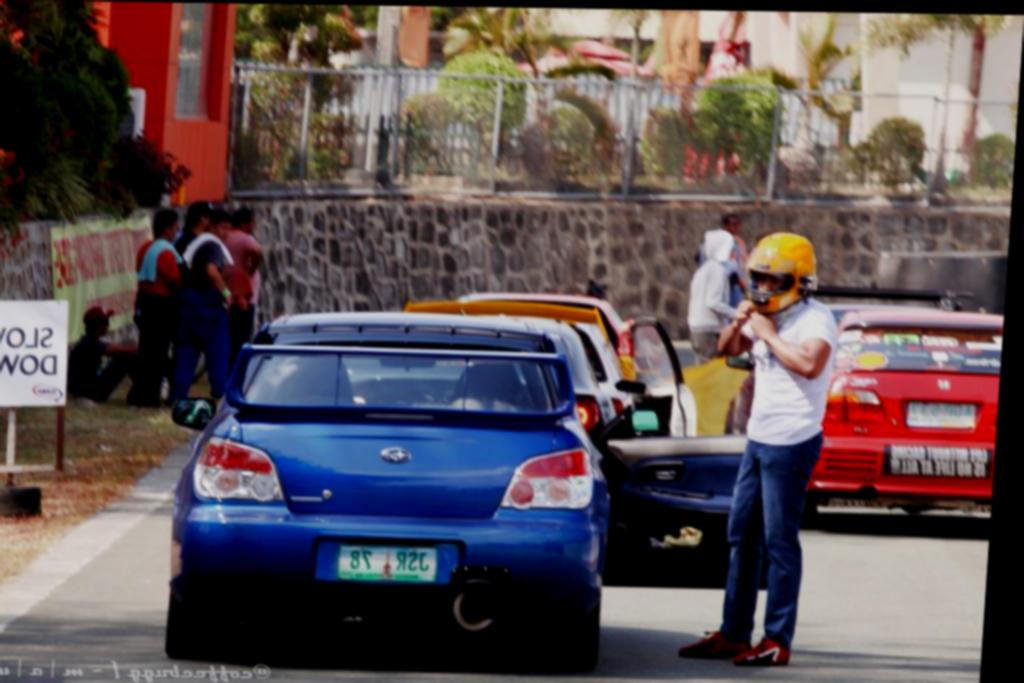License_Plate: (336, 542, 441, 584), (906, 401, 979, 432)
